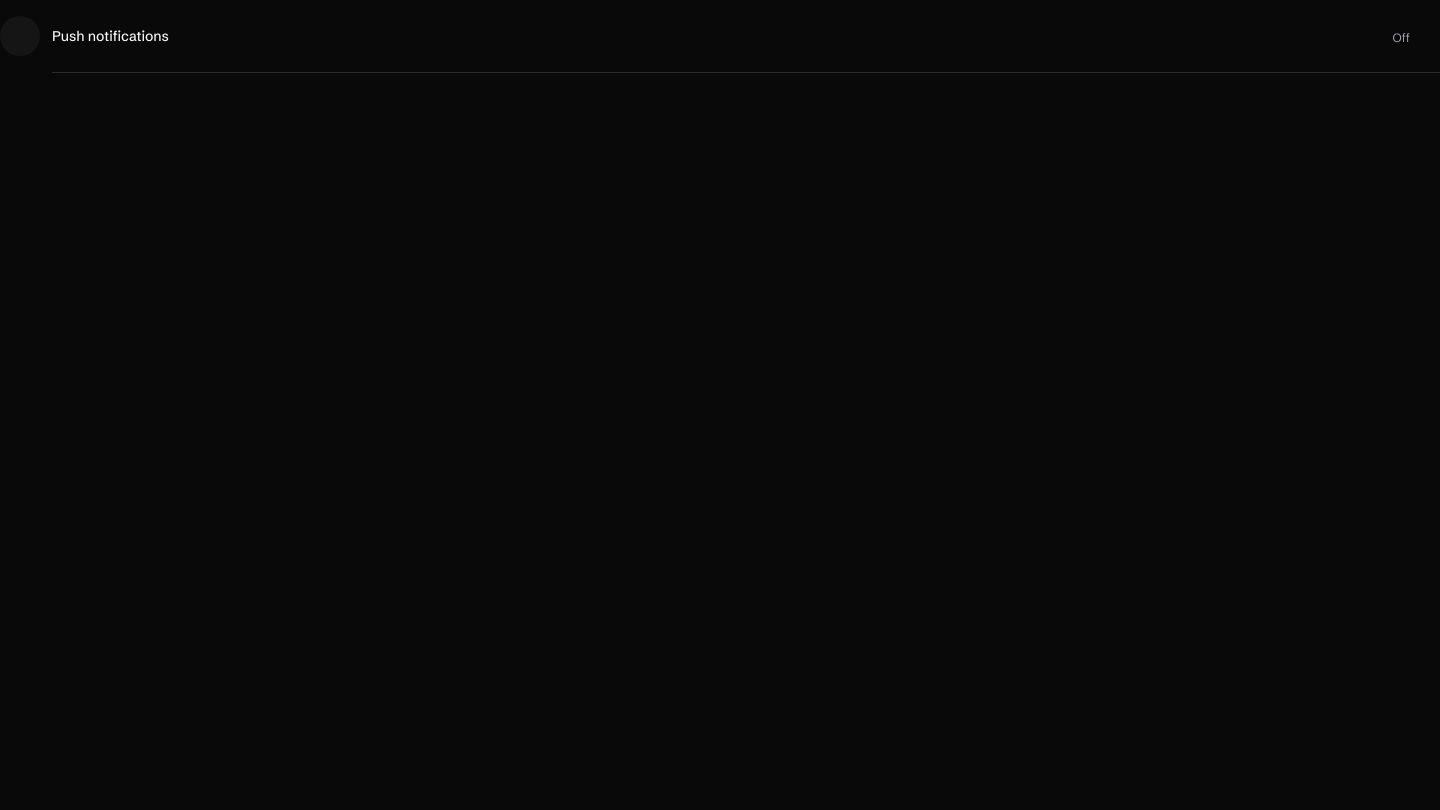
Test: PushNotificationsRow › says push is off when the server has no key
Click the button "Push notifications Off": (20, 36) [0, 0, 1439, 72]
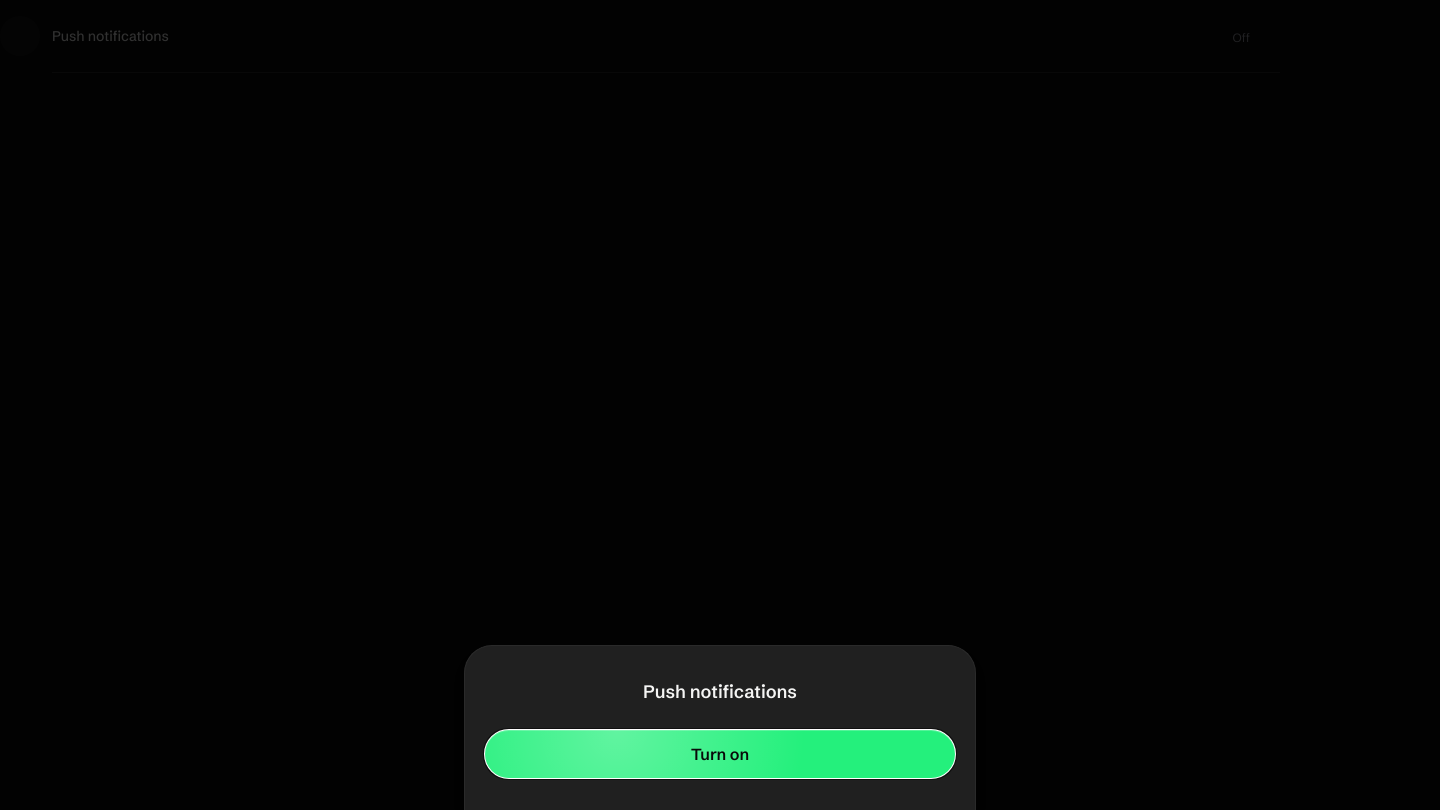
Click the button "Turn on": (720, 754) [485, 730, 955, 778]
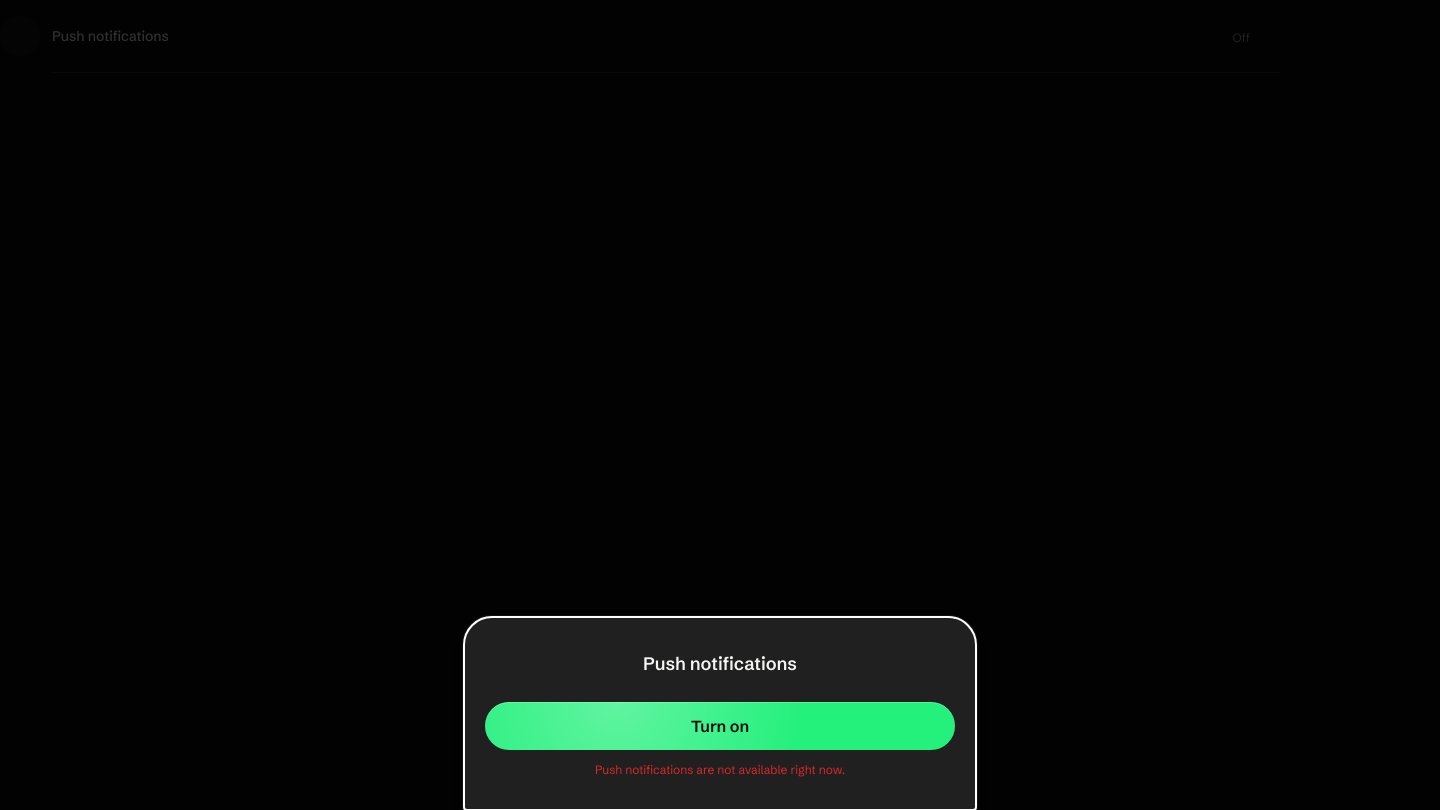
Expected: the message reads "Push notifications are not available right now.", [595, 762, 845, 777]
